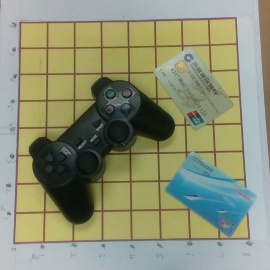card: (165, 150, 257, 239), (153, 46, 234, 129)
remote: (27, 75, 175, 224)
